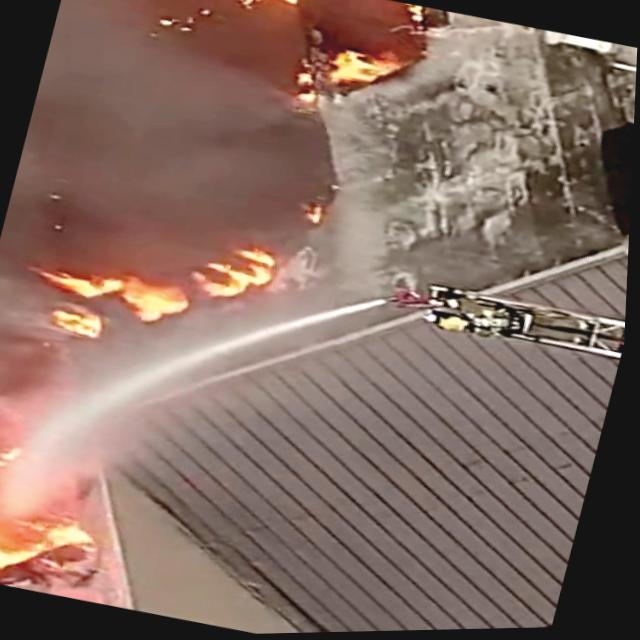fire: (0, 499, 65, 594)
